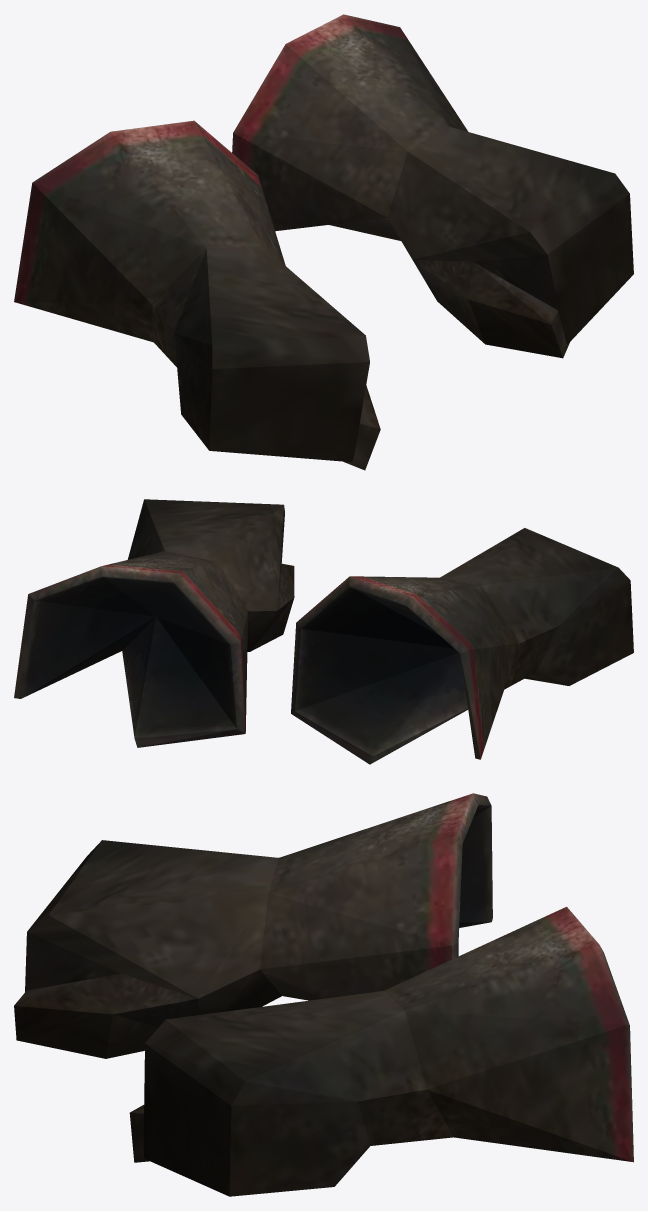
The model's file is KM_VOB_ARMORER_GLOVES_01.glb.
The picture shows the model from 3 angles, top to bottom: view 1: azimuth 30°, elevation 25°; view 2: azimuth 150°, elevation 25°; view 3: azimuth 270°, elevation 25°; orthographic projection. The views are drawn at different scales.
Parts seen in each view (by area): view 1: KM_VOB_ARMORER_GLOVES_01; view 2: KM_VOB_ARMORER_GLOVES_01; view 3: KM_VOB_ARMORER_GLOVES_01.
Part boxes in pixels (box(x1,y1,x2,y2)): KM_VOB_ARMORER_GLOVES_01: box(14, 14, 633, 470); KM_VOB_ARMORER_GLOVES_01: box(14, 499, 633, 764); KM_VOB_ARMORER_GLOVES_01: box(14, 793, 633, 1196).
Bounding box in the file's own units: 0.3805 × 0.1499 × 0.3684.
Materials: 1 (1 with a texture image).
